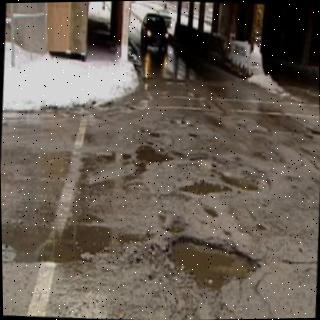pothole: (168, 236, 261, 289)
